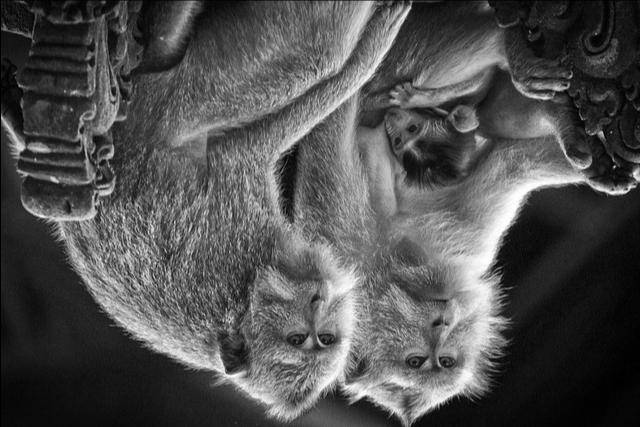Non_Gorille: (82, 6, 597, 427)
